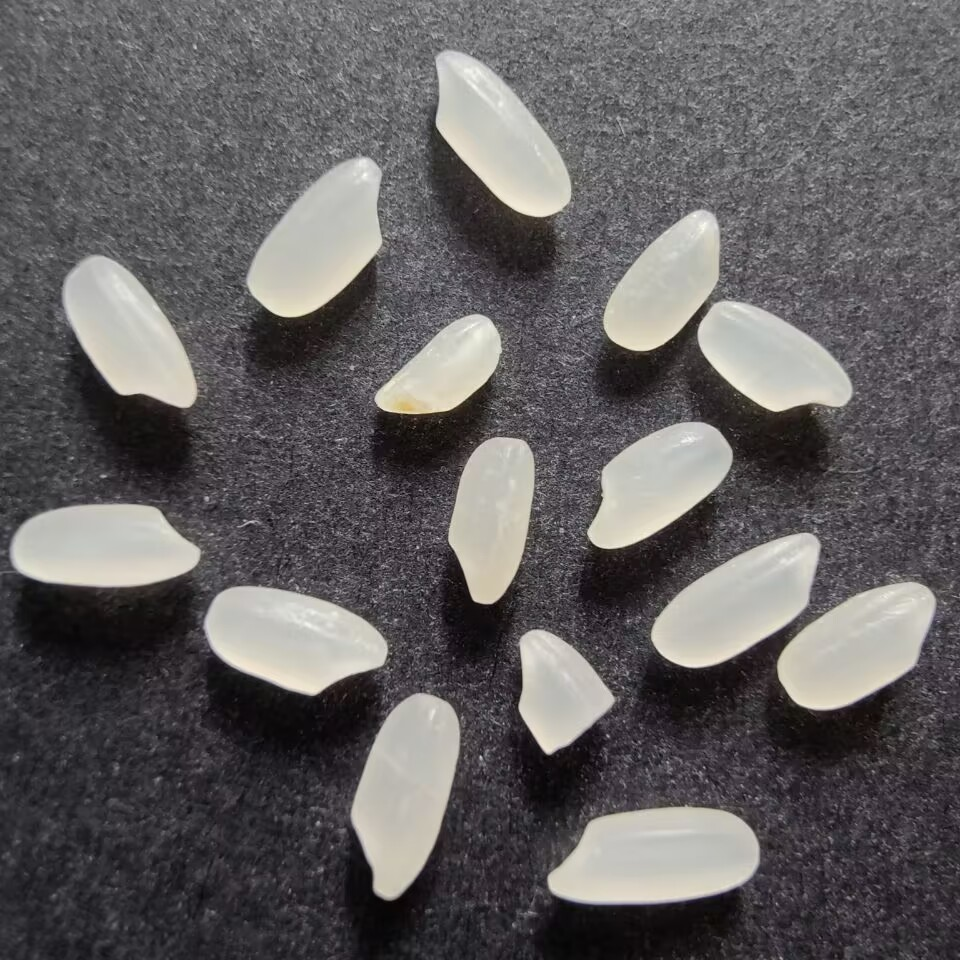broken: (370, 311, 504, 423), (512, 624, 620, 759)
rice: (427, 47, 577, 224), (345, 693, 465, 904), (244, 154, 390, 324), (650, 529, 825, 669), (541, 802, 758, 908), (775, 578, 941, 715), (61, 252, 199, 414), (201, 581, 392, 697), (586, 417, 736, 557), (696, 296, 856, 419), (4, 498, 204, 592), (598, 205, 725, 353), (444, 431, 539, 610)
